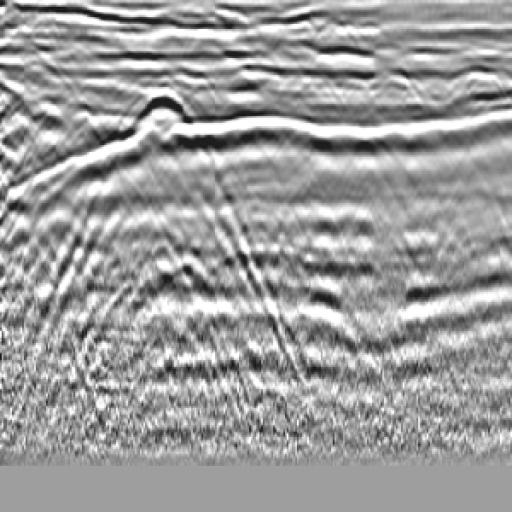non-metallic: (52, 66, 290, 397)
